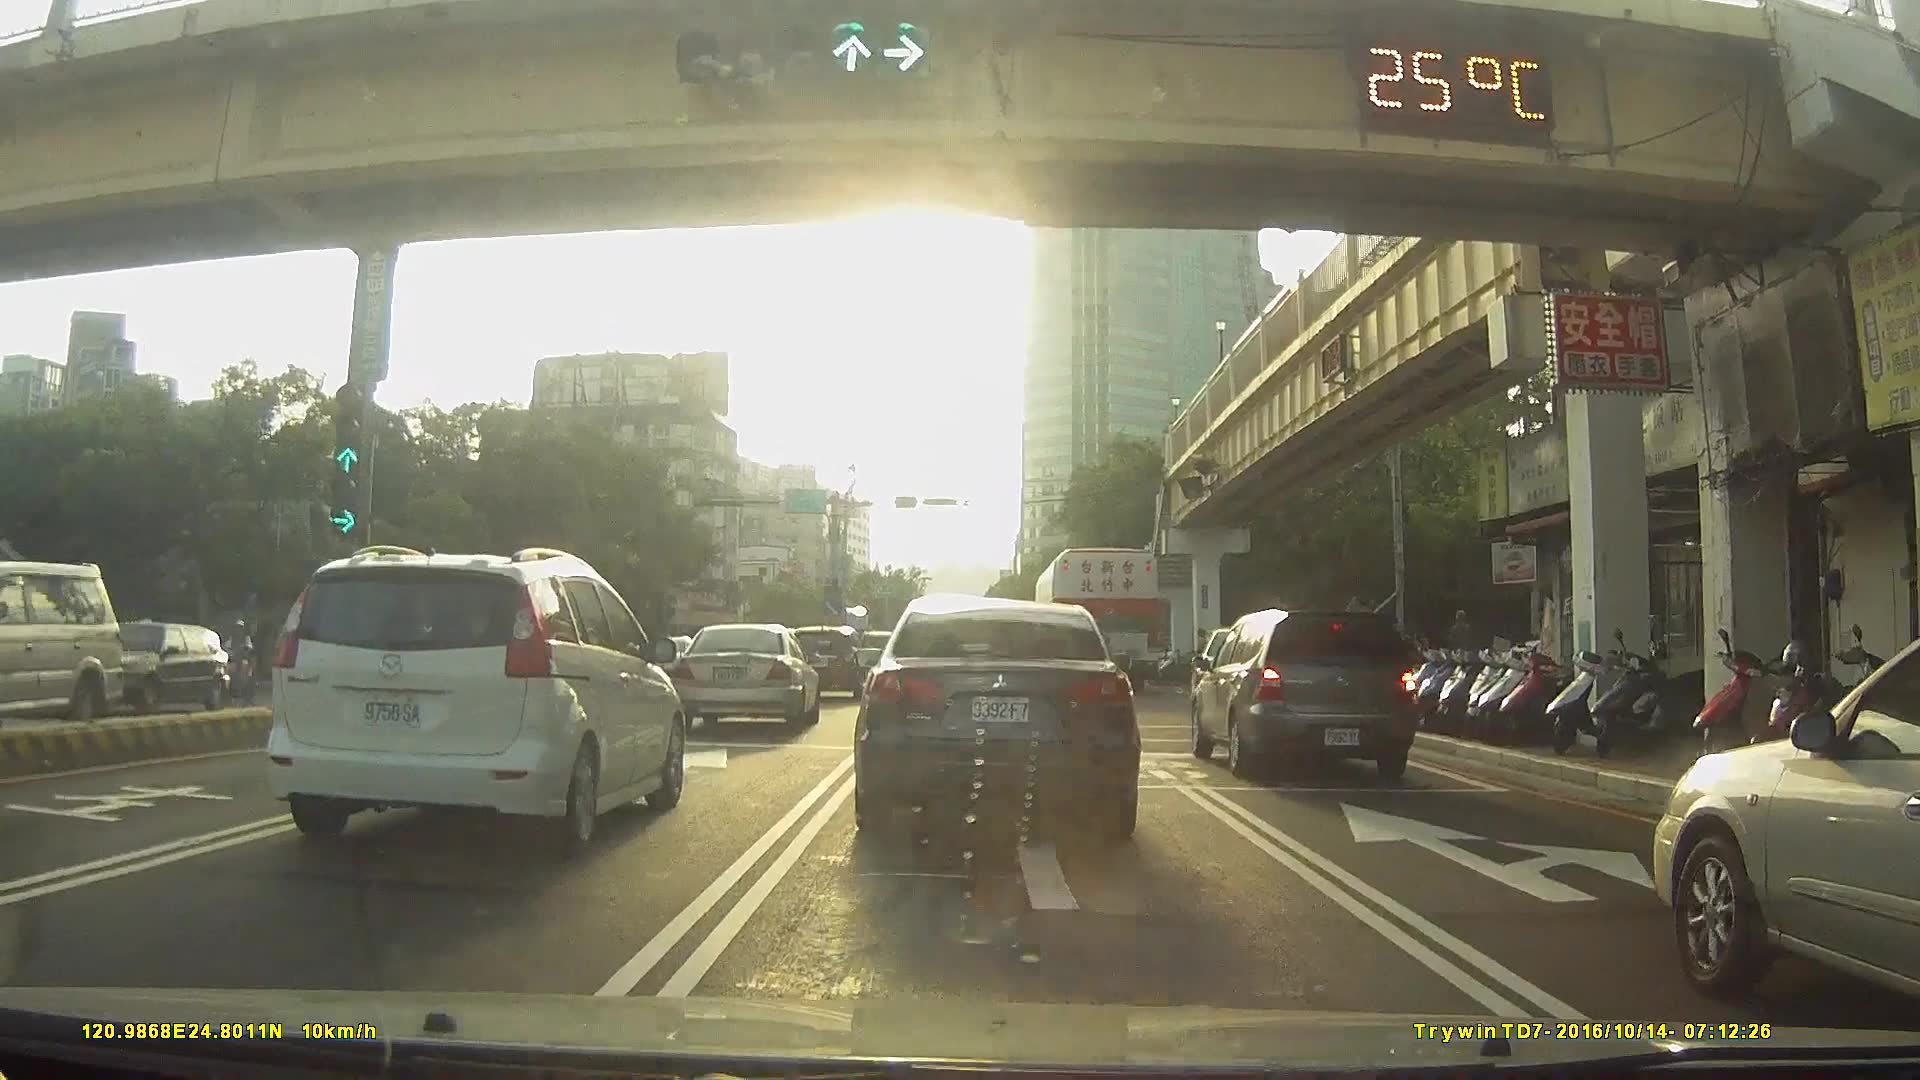pedestrian: (1205, 619, 1232, 682)
rider: (214, 618, 262, 706)
vehicle: (265, 539, 688, 851), (1646, 634, 1920, 1005), (851, 590, 1138, 845), (1192, 603, 1419, 779), (1, 553, 153, 730), (1031, 543, 1161, 690), (672, 616, 818, 727), (92, 618, 238, 719), (779, 622, 864, 697), (640, 633, 697, 682)
